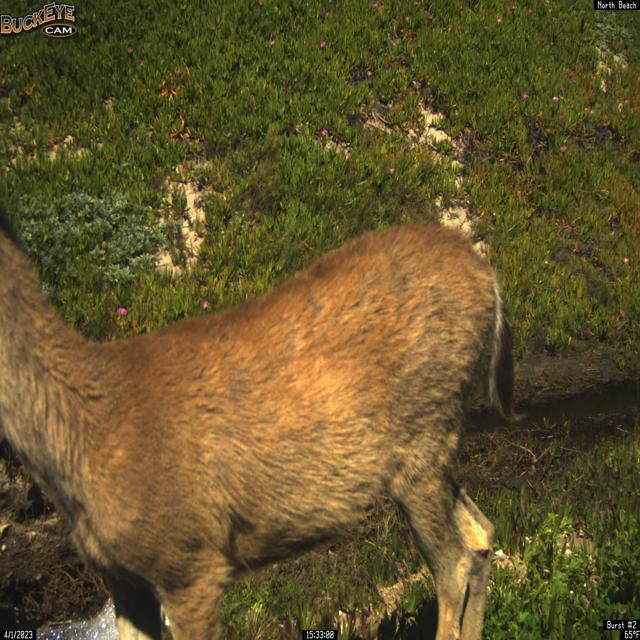deer: (0, 171, 526, 640)
